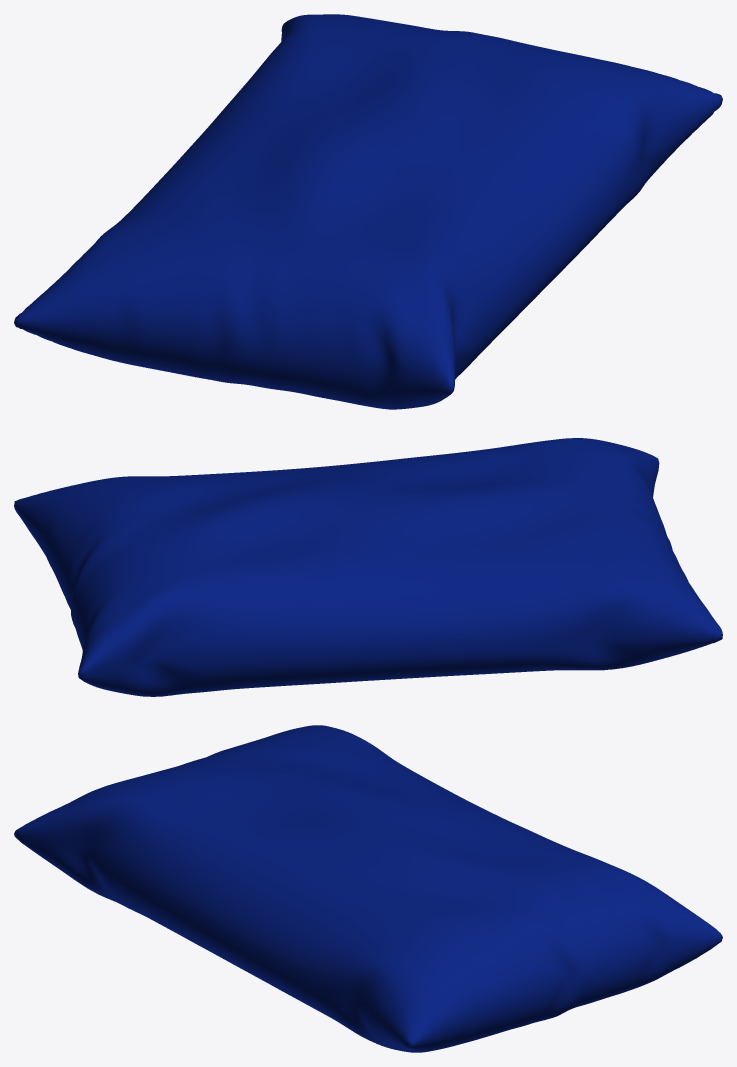
Rendered from EH SinglePillow.fbx.
3 views of the same model, one above another, from view 1: azimuth 30°, elevation 25°; view 2: azimuth 150°, elevation 25°; view 3: azimuth 270°, elevation 25° (orthographic). The views are drawn at different scales.
Visible parts, largest first — view 1: Pillow 1; view 2: Pillow 1; view 3: Pillow 1.
Boxes of the visible parts, bbox=[...] form: Pillow 1: bbox=[14, 14, 722, 409]; Pillow 1: bbox=[14, 438, 722, 696]; Pillow 1: bbox=[14, 725, 722, 1052].
Bounding box in the file's own units: 37.67 × 6.57 × 35.65.
